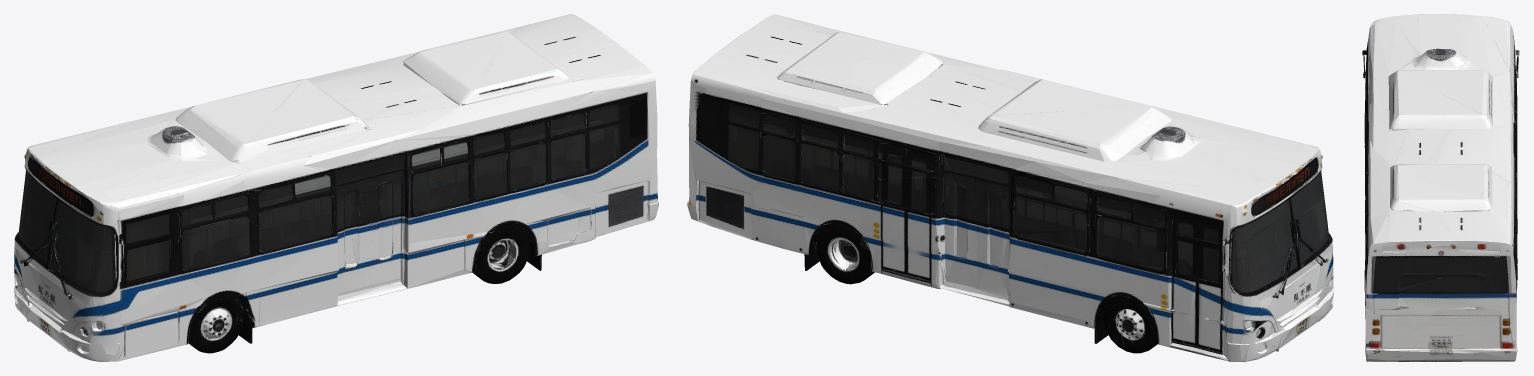
The model's file is car_bus.glb.
3 renders of one model, left to right at view 1: azimuth 30°, elevation 25°; view 2: azimuth 150°, elevation 25°; view 3: azimuth 270°, elevation 25°, orthographic. The views are drawn at different scales.
Bounding box in the file's own units: 1.9 × 0.605 × 0.5393.
Materials: 1 (1 with a texture image).
